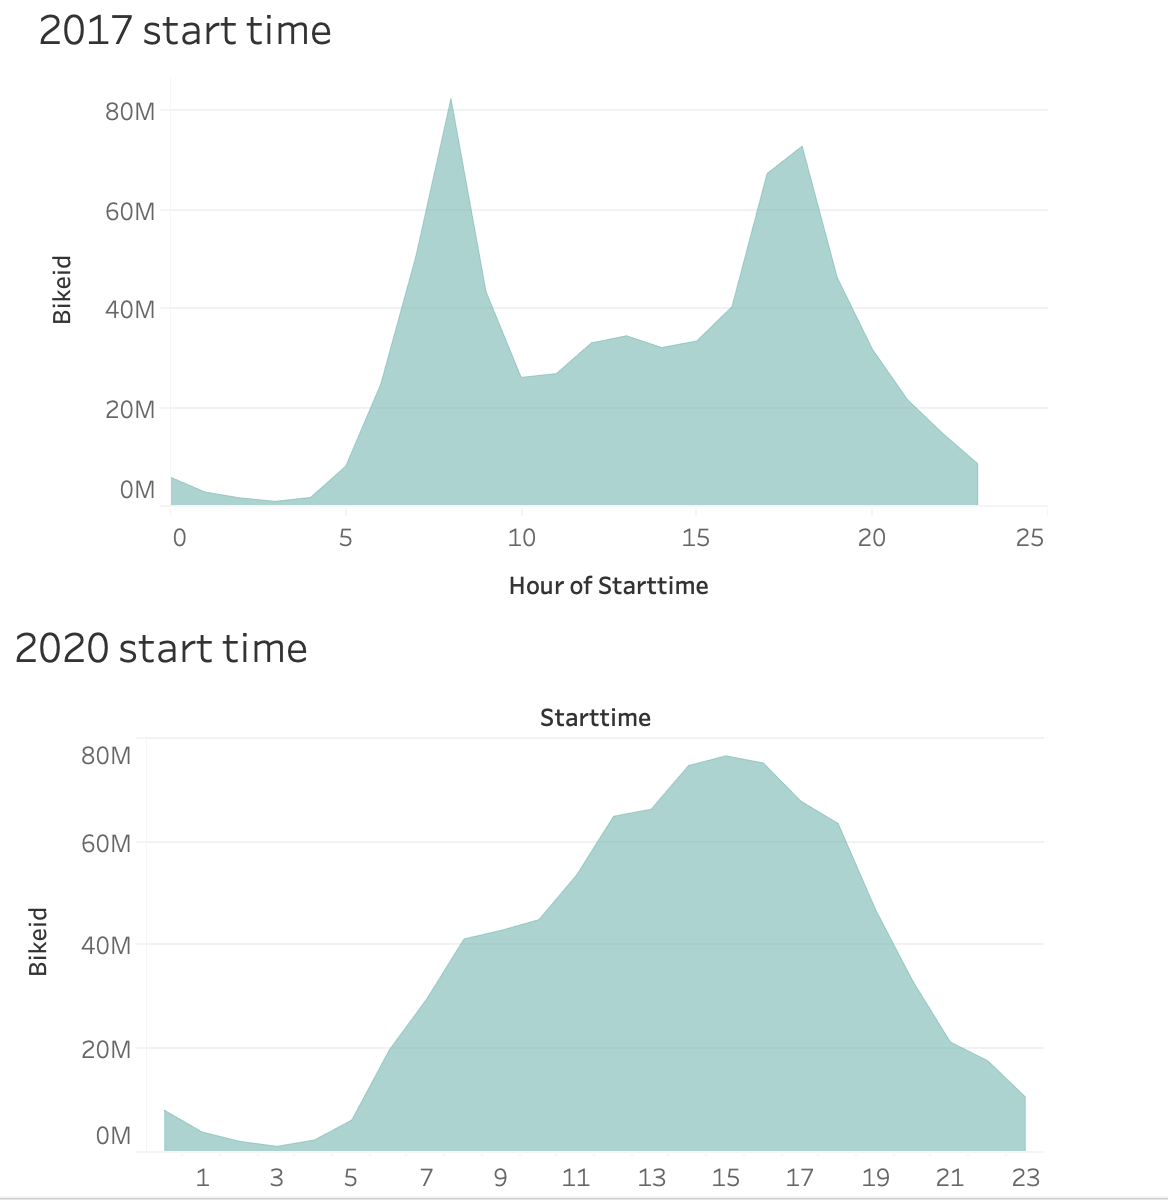

The dashboard page shown, as its layout file describes it:
{"tool":"tableau","page":{"name":"Ride time YOY","canvas":[650,860],"ordinal":1},"visuals":[{"type":"worksheet","title":"2017 start time","mark":"Area","rows":["bikeid"],"cols":["starttime"],"box":[24,11.3,509,439.9]},{"type":"worksheet","title":"2020 start time","mark":"Area","rows":["bikeid"],"cols":["starttime"],"box":[12,446.9,519,411.7]}]}

Visuals, with their boxes on the page's 650x860 design canvas (x1, y1, x2, y2). These are canvas units, not pixel positions in the 1168x1200 screenshot, which may show the page scaled, cropped or inside an application window:
"2017 start time" worksheet (Area marks): (24,11,533,451)
"2020 start time" worksheet (Area marks): (12,447,531,859)
